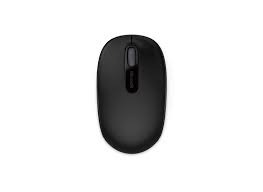mouse: (96, 31, 169, 153)
